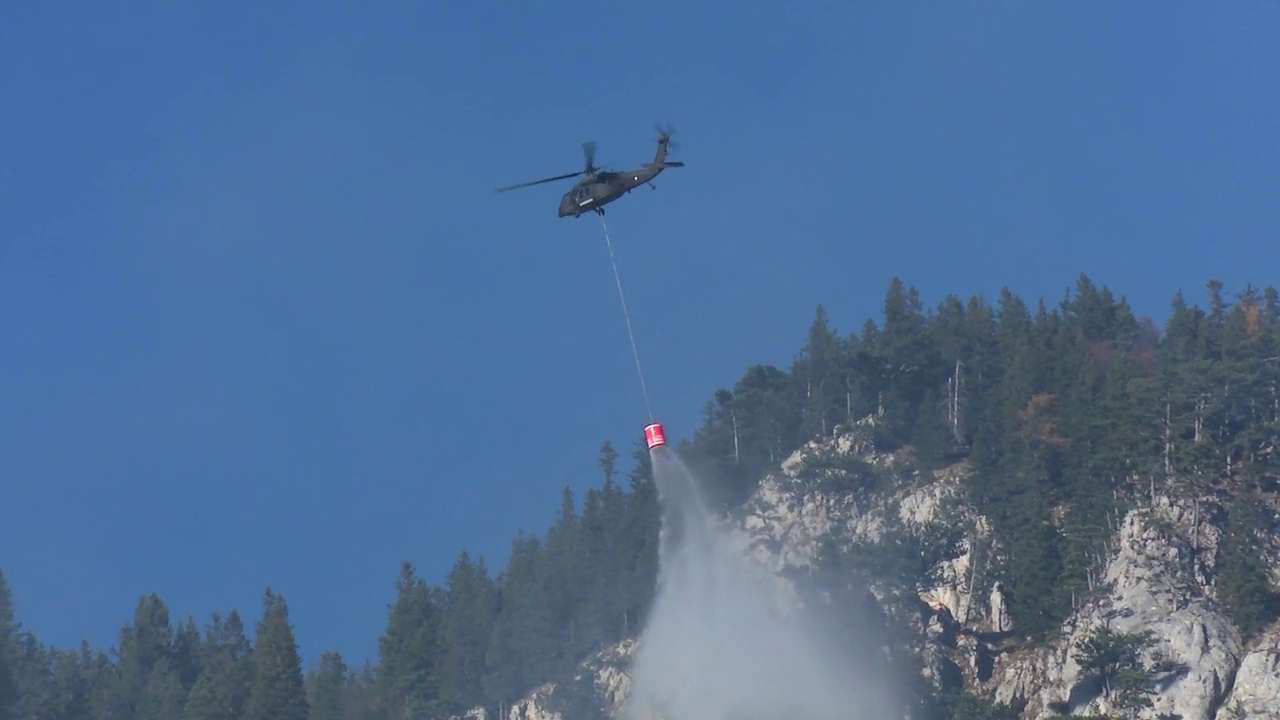heli: (499, 120, 686, 218)
